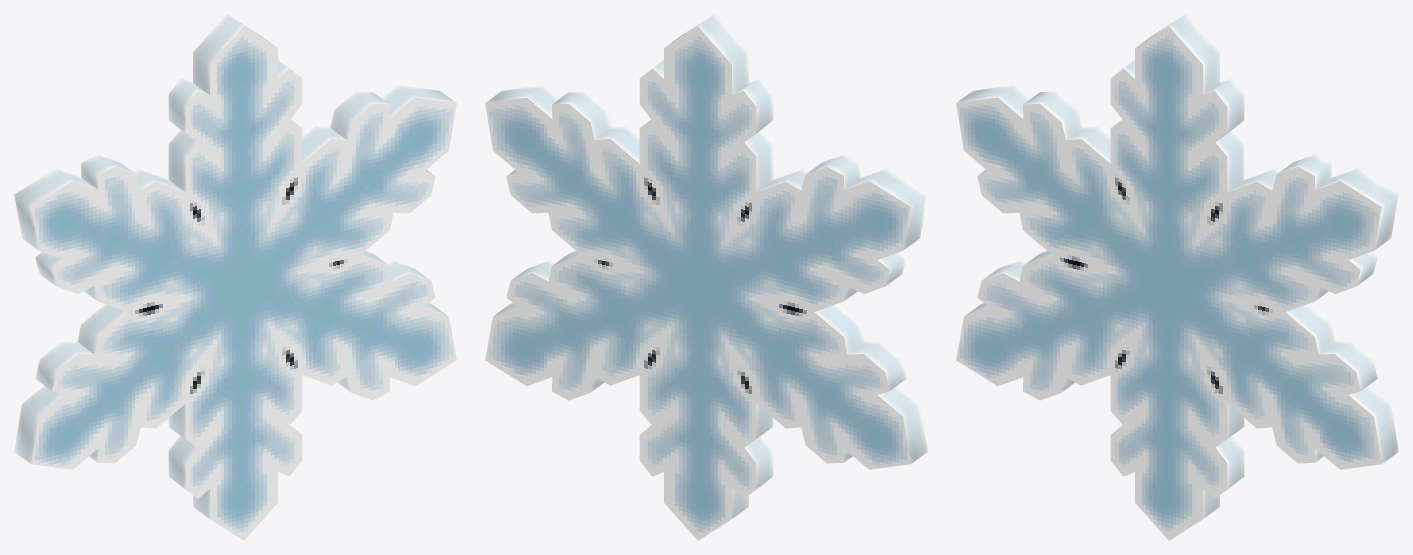
Rendered from ps2_save-icons_whitebreath-kizuna.glb.
The picture shows the model from 3 angles, left to right: view 1: azimuth 30°, elevation 25°; view 2: azimuth 150°, elevation 25°; view 3: azimuth 330°, elevation 25°; orthographic projection.
Parts seen in each view (by area): view 1: static.ico; view 2: static.ico; view 3: static.ico.
Boxes of the visible parts, box(x1,y1,x2,y2) form: static.ico: box(14, 14, 456, 540); static.ico: box(485, 14, 927, 540); static.ico: box(956, 14, 1398, 540).
Bounding box in the file's own units: 4.13 × 4.76 × 0.2849.
Materials: 1 (1 with a texture image).
